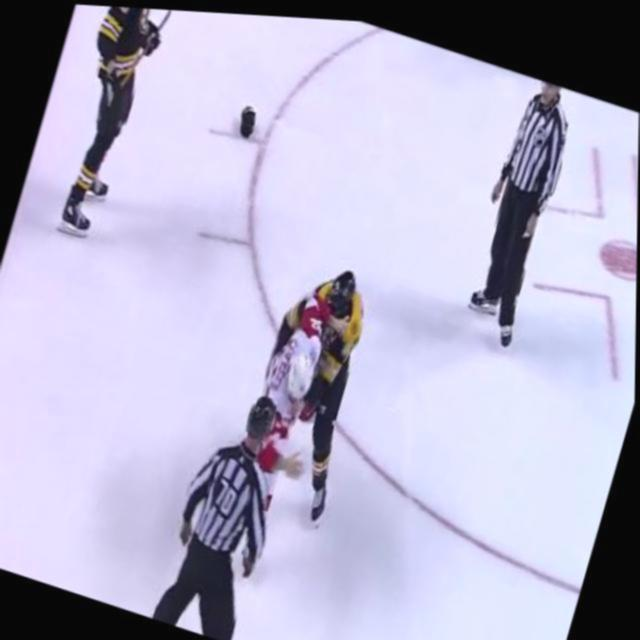fight: (224, 244, 393, 544)
